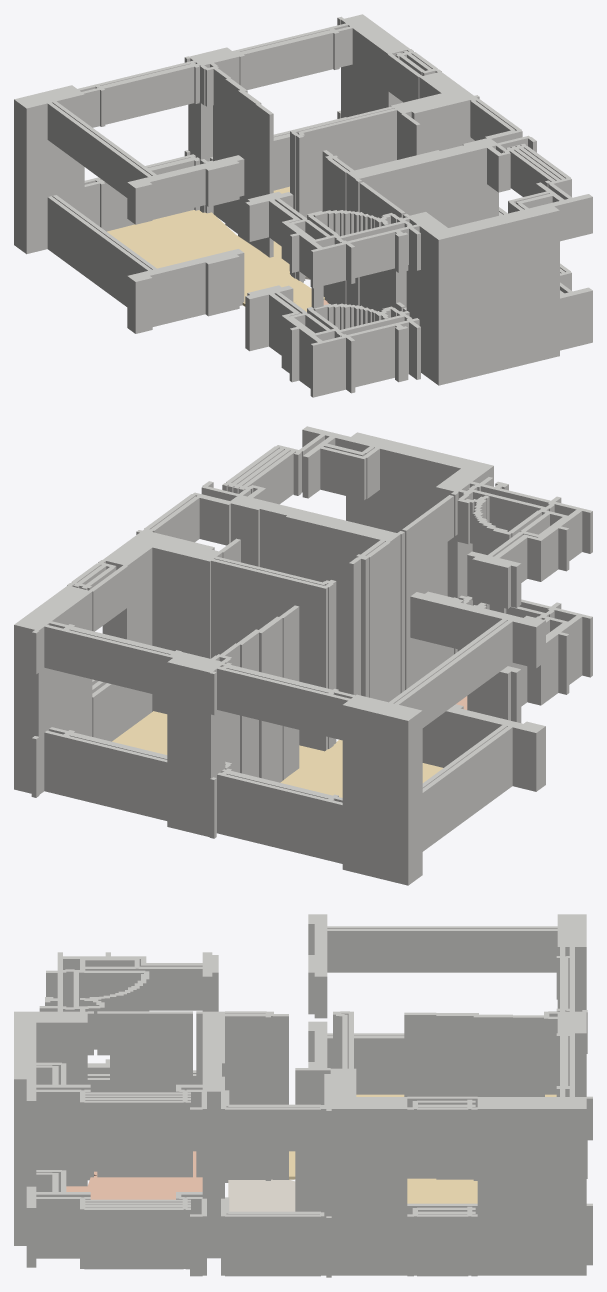
3 renders of one model, top to bottom at view 1: azimuth 30°, elevation 25°; view 2: azimuth 150°, elevation 25°; view 3: azimuth 270°, elevation 25°, orthographic. The views are drawn at different scales.
Visible parts, largest first — view 1: walls, room:living:0; view 2: walls, room:living:0; view 3: walls, room:kitchen:1, room:living:0, room:other:2.
Boxes of the visible parts, left/top/right/bottom form: walls: left=14, top=14, right=592, bottom=397; room:living:0: left=107, top=186, right=324, bottom=311; walls: left=14, top=426, right=592, bottom=885; room:living:0: left=112, top=711, right=443, bottom=797; walls: left=14, top=914, right=592, bottom=1277; room:kitchen:1: left=66, top=1151, right=202, bottom=1199; room:living:0: left=289, top=1094, right=556, bottom=1203; room:other:2: left=228, top=1179, right=295, bottom=1211.
Bounding box in the file's own units: 7.08 × 2.8 × 8.82.
